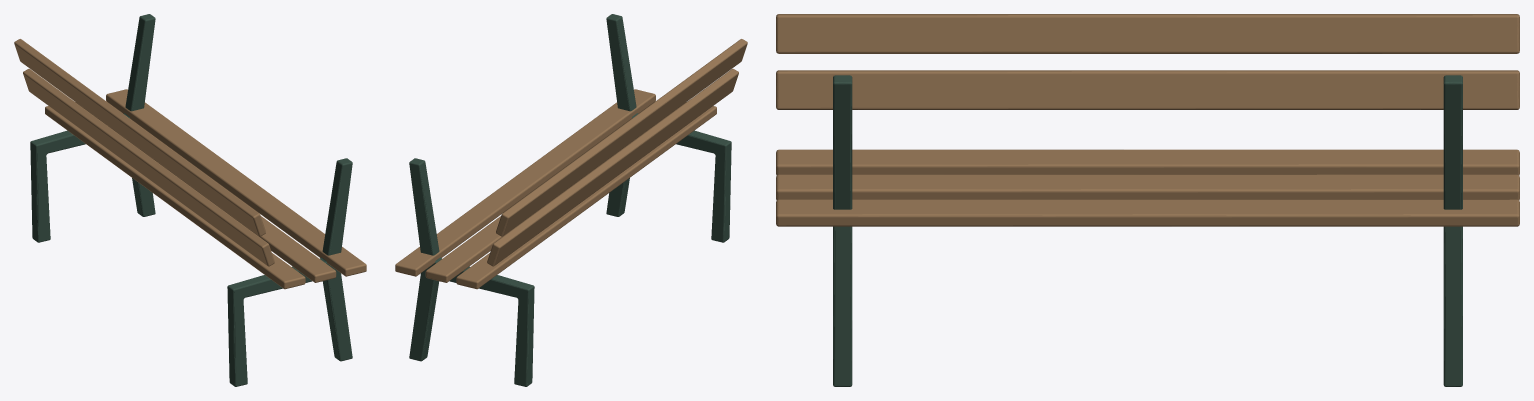
The model's file is SM_VB_Bench_A.fbx.
3 views of the same model, side by side, from view 1: azimuth 30°, elevation 25°; view 2: azimuth 150°, elevation 25°; view 3: azimuth 270°, elevation 25° (orthographic). The views are drawn at different scales.
Parts seen in each view (by area): view 1: SM_VB_Bench_A; view 2: SM_VB_Bench_A; view 3: SM_VB_Bench_A.
Part boxes in pixels (x1,y1,x2,y2): SM_VB_Bench_A: [14, 14, 366, 386]; SM_VB_Bench_A: [395, 14, 747, 386]; SM_VB_Bench_A: [776, 14, 1519, 386].
Size of what is drawn, in the model's own units: 0.549 by 0.86 by 1.9.
